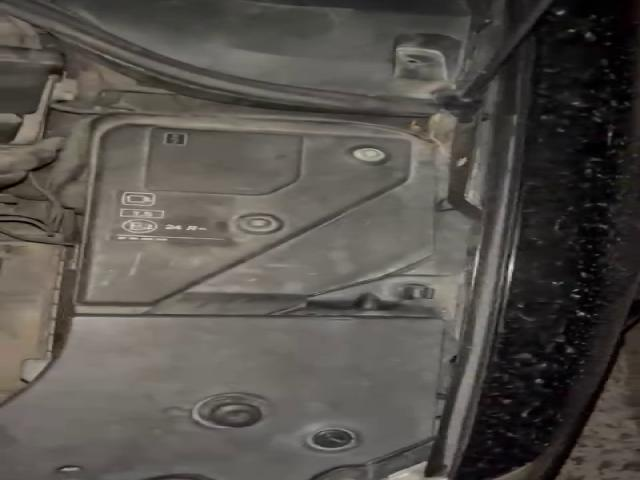fuse_box: (77, 125, 430, 310)
